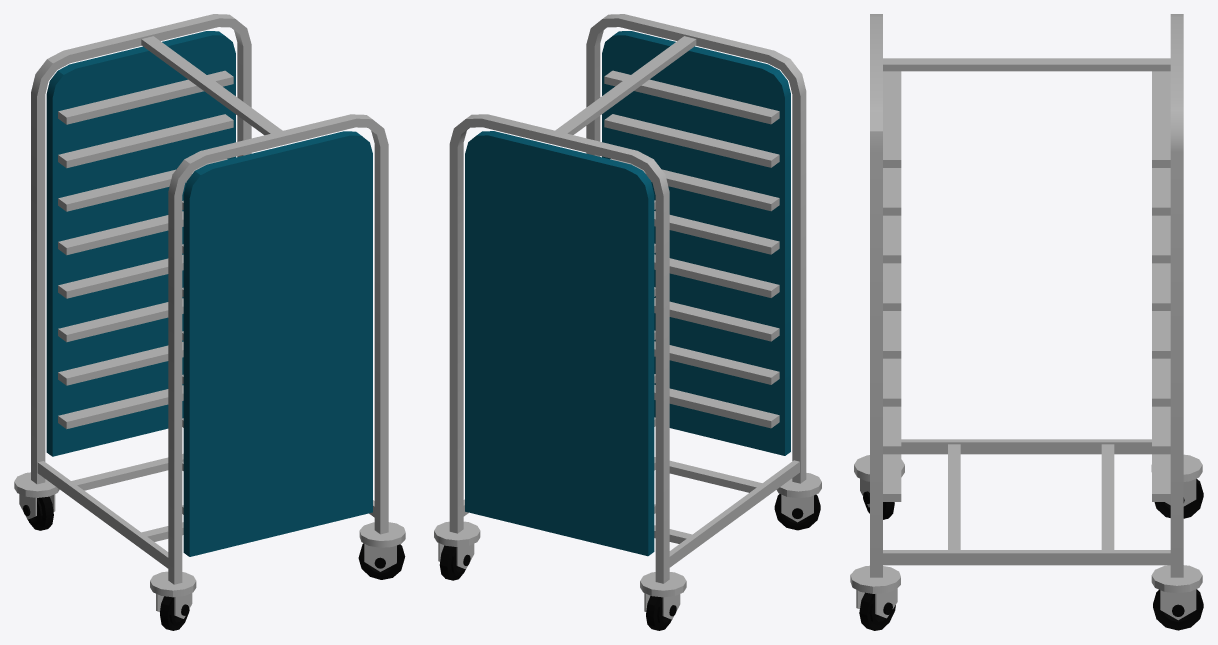
The model's file is Trolley_014.glb.
The picture shows the model from 3 angles, left to right: view 1: azimuth 30°, elevation 25°; view 2: azimuth 150°, elevation 25°; view 3: azimuth 270°, elevation 25°; orthographic projection. The views are drawn at different scales.
Visible parts, largest first — view 1: Mesh_Trolley_014; view 2: Mesh_Trolley_014; view 3: Mesh_Trolley_014.
Part boxes in pixels (x1,y1,x2,y2): Mesh_Trolley_014: (14,14,405,630); Mesh_Trolley_014: (434,14,821,630); Mesh_Trolley_014: (850,14,1203,630).
Size of the model in its own units: 0.9337 by 1.69 by 1.05.
Materials: 1 (1 with a texture image).
